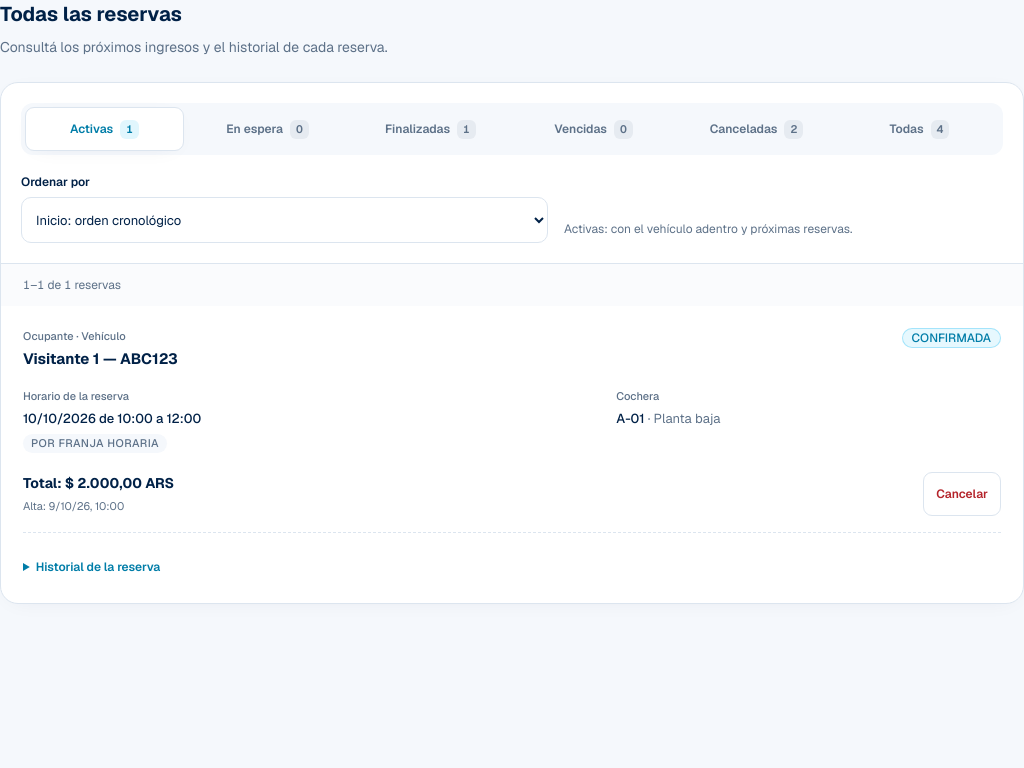
Test case: ReservasListado en modo admin › filtra finalizadas, canceladas y deshabilitadas manteniendo todos los contadores
The width and height of the screenshot is (1024, 768).
Click the button "Finalizadas 1". click: (430, 129)
box: [351, 107, 510, 151]
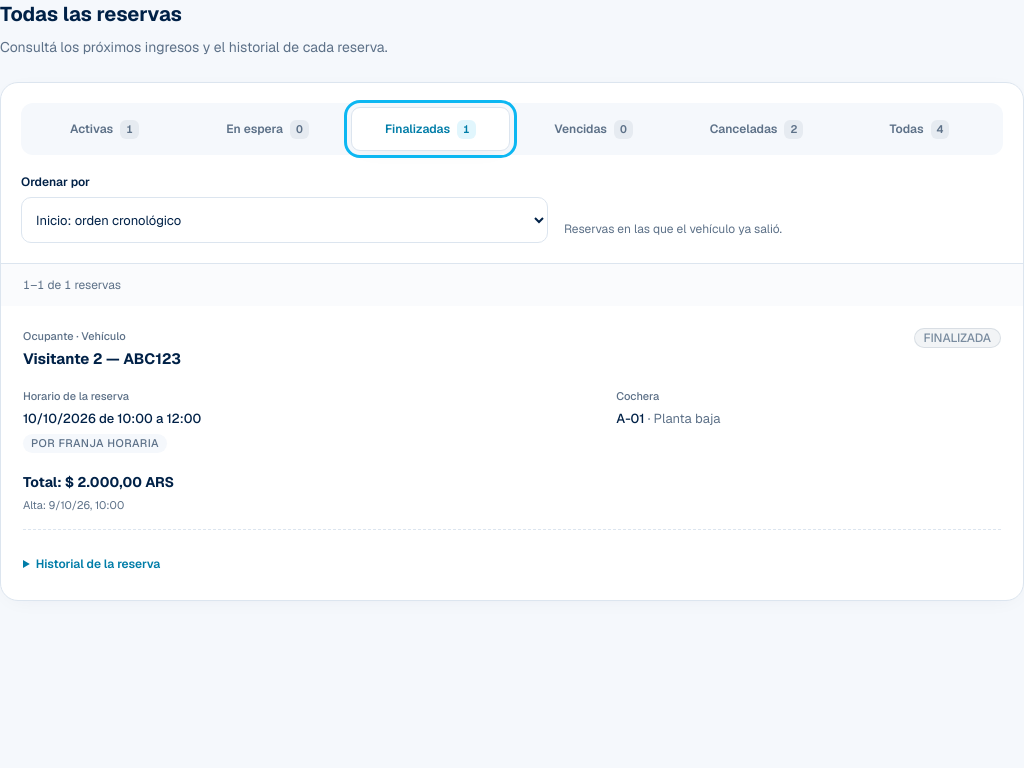
Check: the number of list items is 1, box [1, 306, 1023, 600]
Check: the list item shows "FINALIZADA", box [924, 330, 991, 346]
Check: the button "Cancelar" is gone
Click the button "Canceladas 2". click: (756, 129)
box: [677, 107, 836, 151]
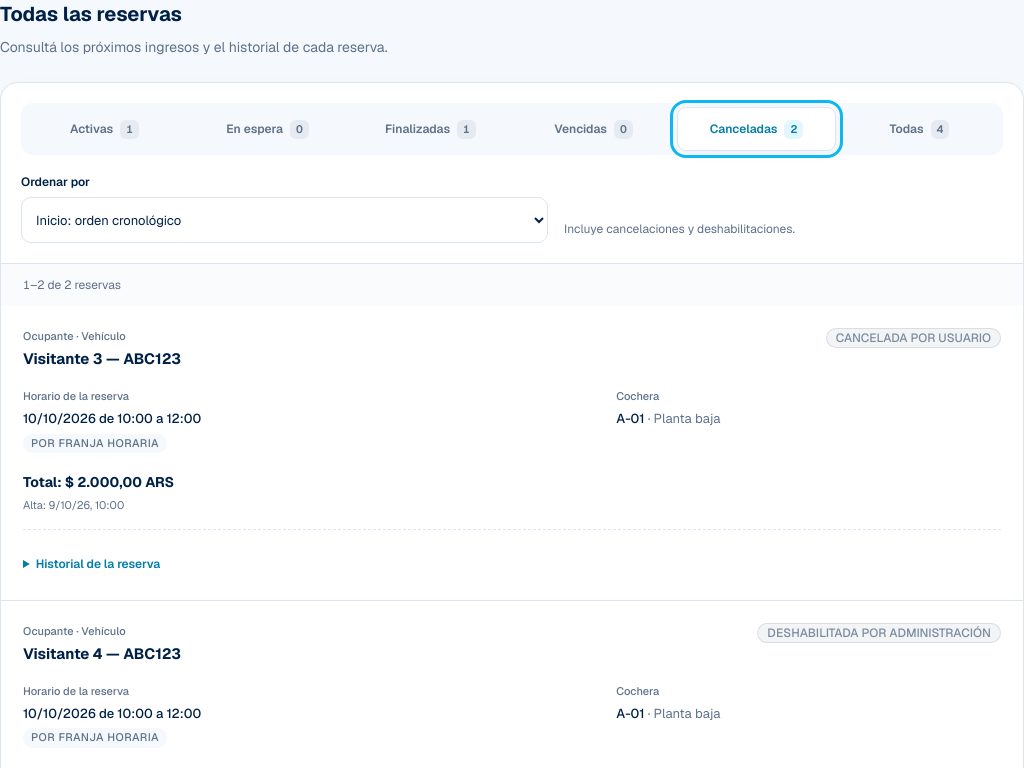
Check: the text "CANCELADA POR USUARIO" is shown, box [826, 328, 1001, 348]
Check: the text "DESHABILITADA POR ADMINISTRACIÓN" is shown, box [757, 623, 1001, 643]
Click the button "Todas 4". click: (920, 129)
box: [840, 107, 999, 151]
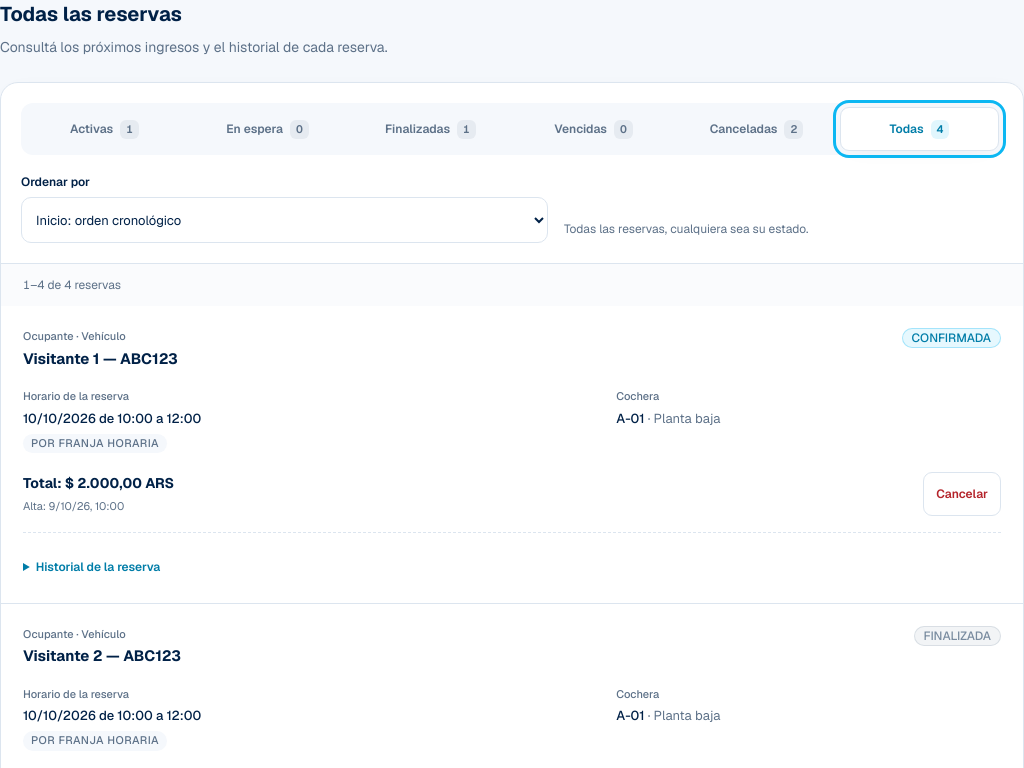
Check: the number of list items is 4
